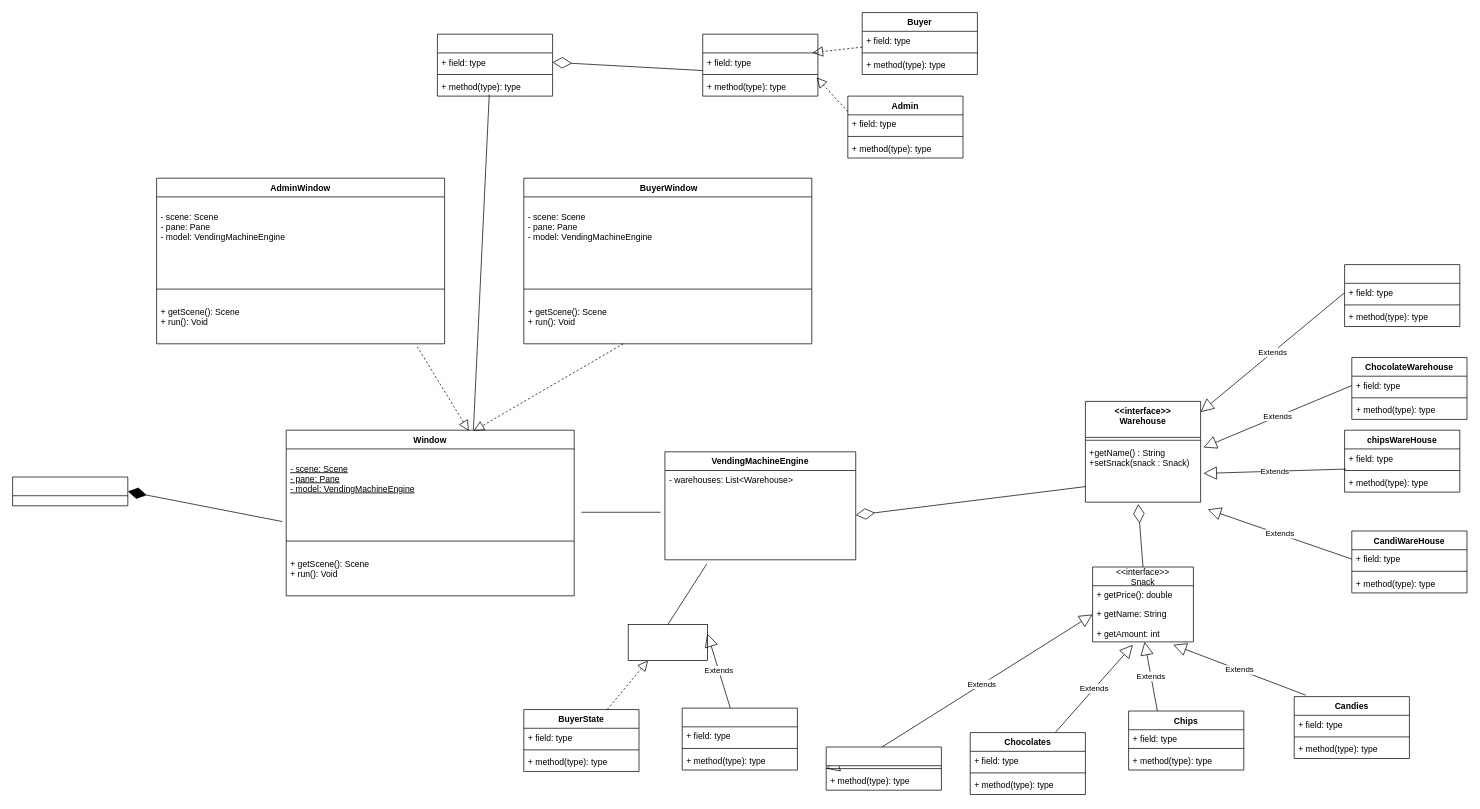
Some shapes in this 1480 by 809 pixel diagram are drawn without their labels. Here are the shapes that lost their labels. From the top down, the box of each, then its label:
(437, 33, 553, 96): DataBaseHandler
(702, 33, 818, 96): User
(1344, 264, 1460, 327): DrinkWarehouse
(12, 476, 128, 506): App
(627, 624, 707, 661): «interface» State
(681, 707, 797, 770): AdminState
(825, 746, 941, 790): Drinks
